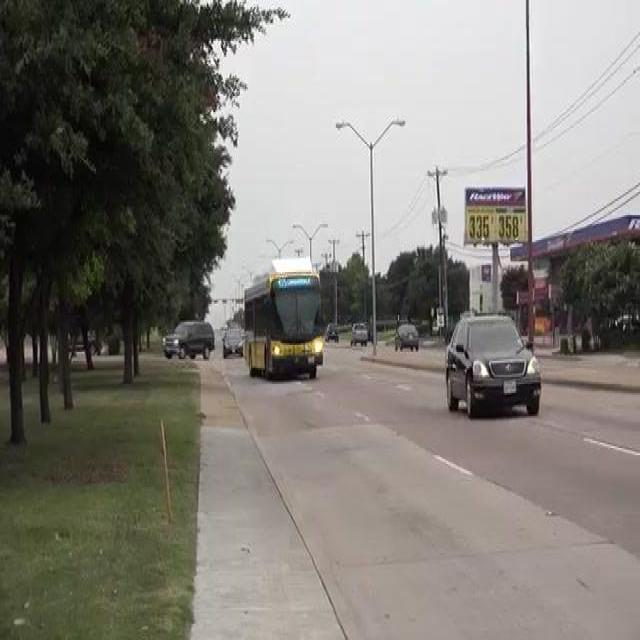motorcycle: (238, 276, 324, 374)
